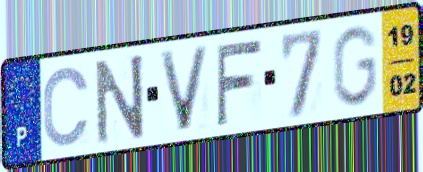7: (277, 25, 325, 121)
C: (41, 63, 92, 149)
F: (213, 36, 264, 129)
G: (330, 22, 380, 110)
N: (93, 50, 148, 147)
V: (156, 43, 213, 135)
